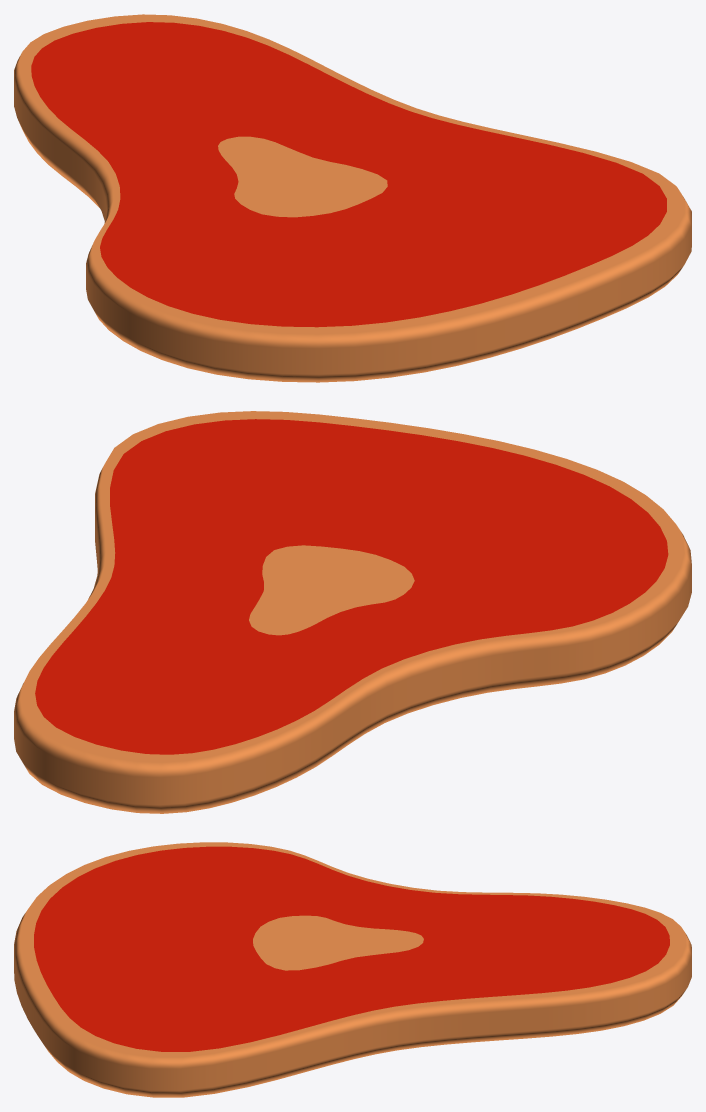
Rendered from Steak.fbx.
3 renders of one model, top to bottom at view 1: azimuth 30°, elevation 25°; view 2: azimuth 150°, elevation 25°; view 3: azimuth 270°, elevation 25°, orthographic. The views are drawn at different scales.
Parts seen in each view (by area): view 1: Steak; view 2: Steak; view 3: Steak.
Boxes of the visible parts, bbox=[...] form: Steak: bbox=[14, 14, 691, 382]; Steak: bbox=[14, 411, 691, 813]; Steak: bbox=[14, 842, 691, 1097].
Bounding box in the file's own units: 26.14 × 2.25 × 34.13.
